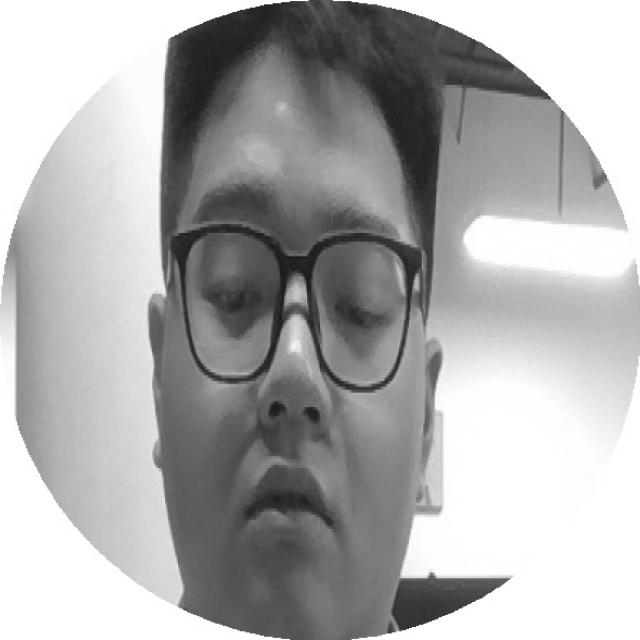real: (163, 35, 433, 640), (165, 190, 434, 354)
